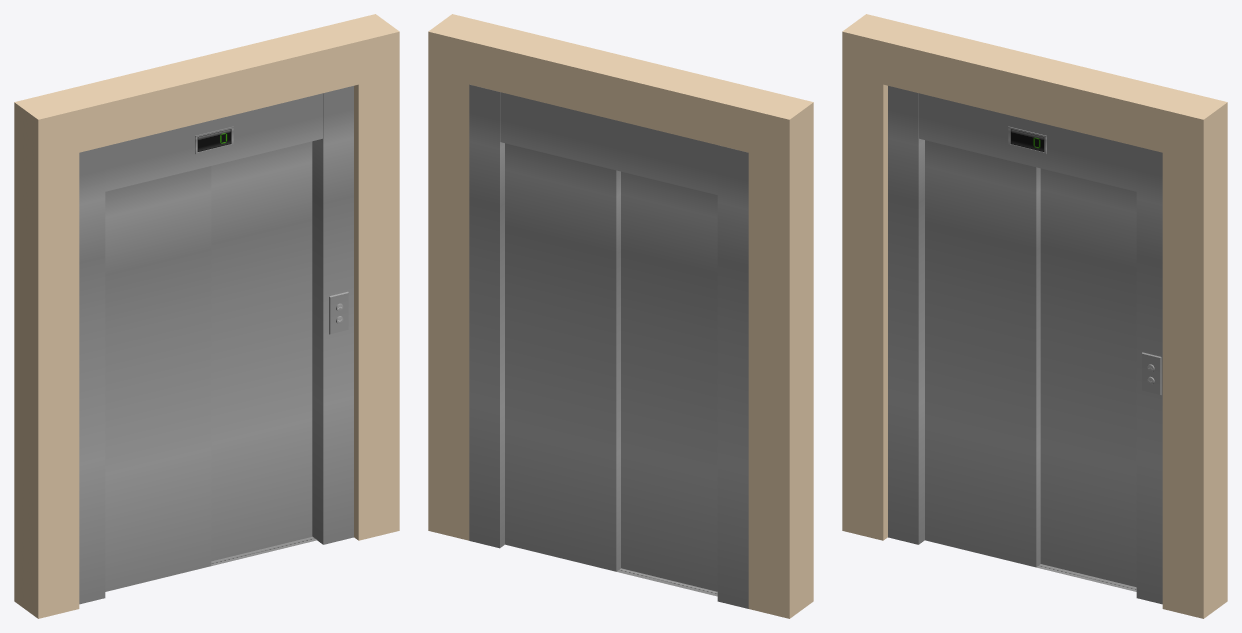
Rendered from Elevator.fbx.
3 renders of one model, left to right at view 1: azimuth 30°, elevation 25°; view 2: azimuth 150°, elevation 25°; view 3: azimuth 330°, elevation 25°, orthographic.
Visible parts, largest first — view 1: right_door_Cube_001, wooden_frame_Cube_003, metallic_frame_Cube_002, Cube_Cube_004, Cube_001_Cube_005, Plane; view 2: right_door_Cube_001, wooden_frame_Cube_003, metallic_frame_Cube_002, Plane; view 3: right_door_Cube_001, wooden_frame_Cube_003, metallic_frame_Cube_002, Cube_Cube_004, Cube_001_Cube_005, Plane.
Part boxes in pixels (box(x1,y1,x2,y2)): right_door_Cube_001: box(105, 141, 312, 591); wooden_frame_Cube_003: box(14, 14, 399, 618); metallic_frame_Cube_002: box(79, 86, 353, 604); Cube_Cube_004: box(329, 291, 348, 334); Cube_001_Cube_005: box(195, 126, 233, 154); Plane: box(107, 536, 316, 591); right_door_Cube_001: box(505, 143, 717, 591); wooden_frame_Cube_003: box(428, 14, 813, 618); metallic_frame_Cube_002: box(469, 84, 748, 608); Plane: box(511, 546, 717, 596); right_door_Cube_001: box(925, 140, 1136, 587); wooden_frame_Cube_003: box(842, 14, 1227, 618); metallic_frame_Cube_002: box(888, 86, 1162, 604); Cube_Cube_004: box(1142, 352, 1161, 394); Cube_001_Cube_005: box(1008, 126, 1046, 154); Plane: box(925, 540, 1136, 591).
Size of the model in its own units: 186 by 245 by 21.49.
